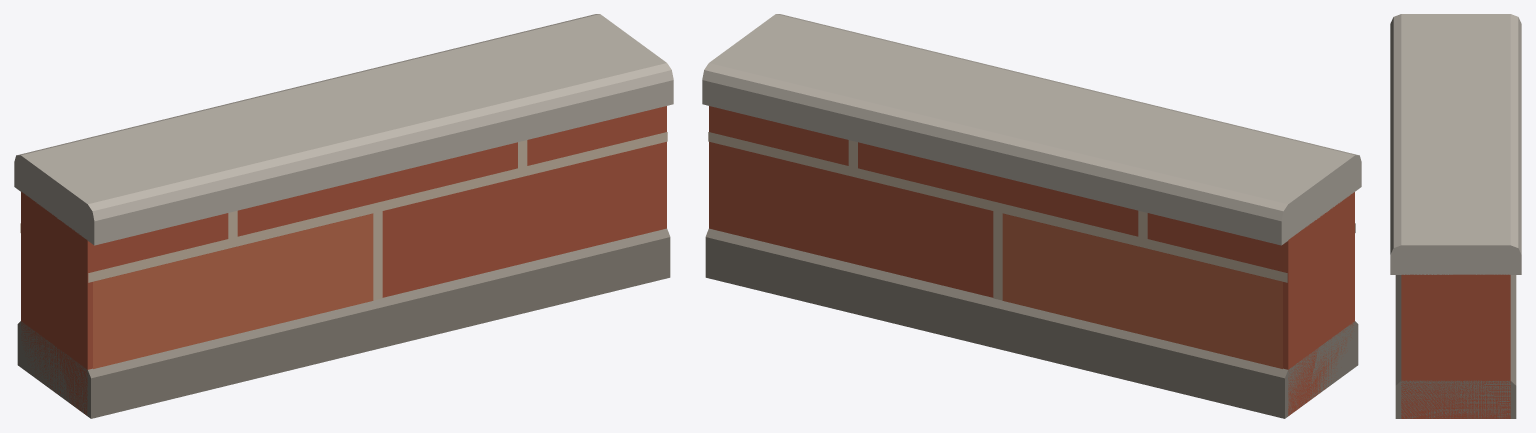
Rendered from wand_sockel.glb.
3 renders of one model, left to right at view 1: azimuth 30°, elevation 25°; view 2: azimuth 150°, elevation 25°; view 3: azimuth 270°, elevation 25°, orthographic. The views are drawn at different scales.
Parts seen in each view (by area): view 1: wand_sockel; view 2: wand_sockel; view 3: wand_sockel.
Part boxes in pixels (x1,y1,x2,y2): wand_sockel: (14,14,673,418); wand_sockel: (702,14,1361,418); wand_sockel: (1390,14,1521,418).
Bounding box in the file's own units: 1 × 0.35 × 0.24.
